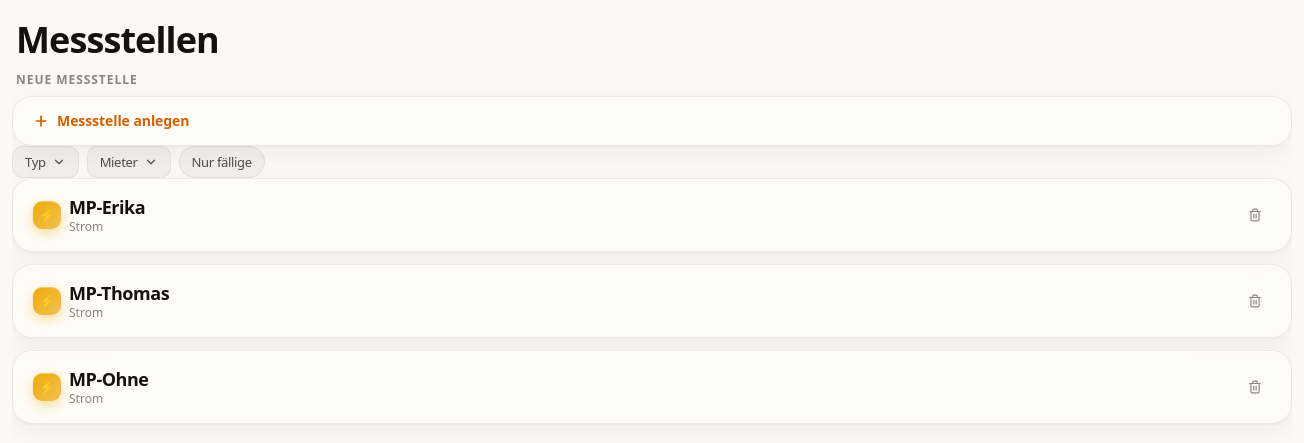
Scenario: MeasuringPointsAdminPage Wizard › filtert die Liste nach Mieter inkl. „ohne Mieter"-Option
Expected: the text "MP-Erika" is shown, [69, 195, 145, 219]
Click the button "Mieter".
click(129, 162)  # box [87, 146, 170, 178]
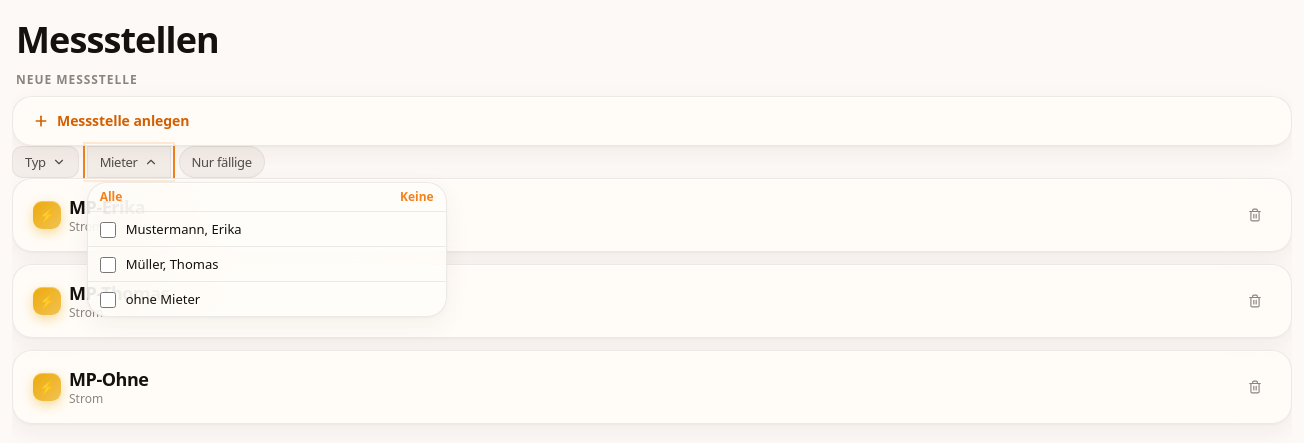
Click the checkbox labelled "Mustermann, Erika".
click(108, 230)  # box [100, 222, 116, 238]
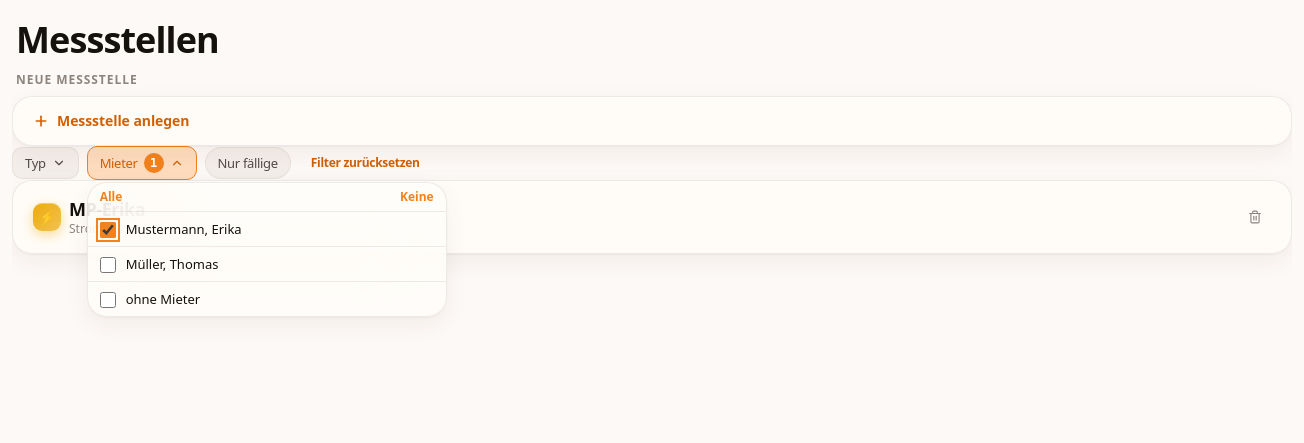
Expected: the text "MP-Erika" is shown, [69, 197, 145, 221]
Expected: the link "MP-Thomas" is gone
Expected: the link "MP-Ohne" is gone
Note: „ohne Mieter" zusätzlich ankreuzen → MP ohne Zuordnung kommt dazu.
Click the checkbox labelled "ohne Mieter".
click(108, 300)  # box [100, 292, 116, 308]
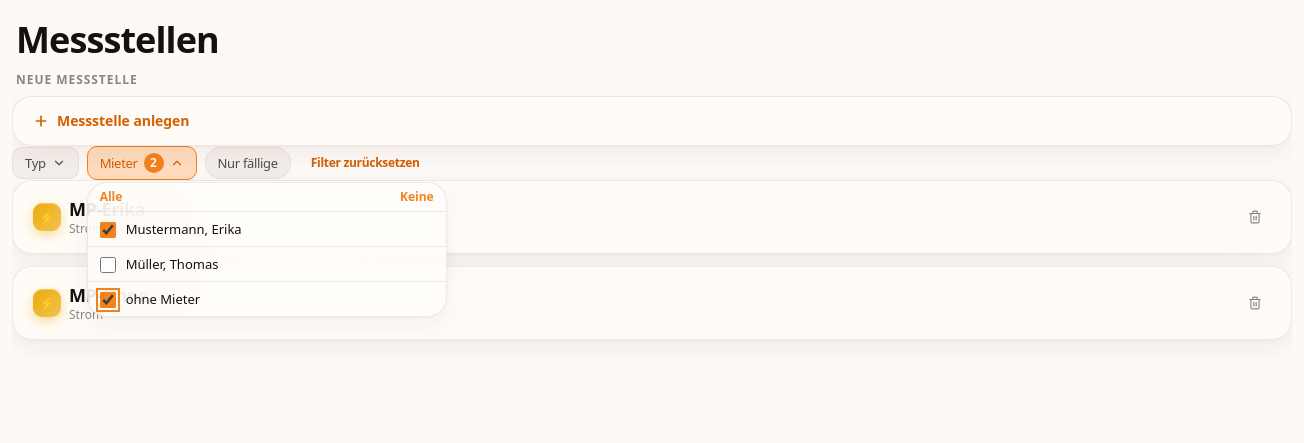
Expected: the text "MP-Erika" is shown, [69, 197, 145, 221]
Expected: the text "MP-Ohne" is shown, [69, 283, 148, 307]
